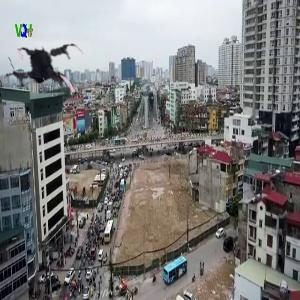drone: (2, 31, 93, 122)
